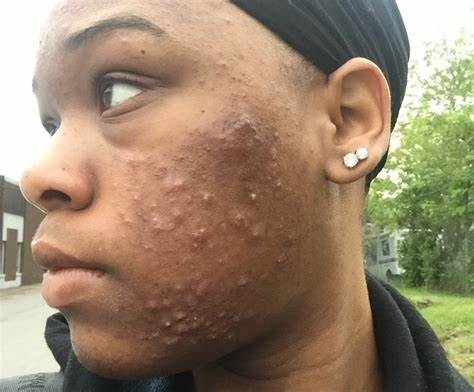Acne: (133, 93, 270, 353)
